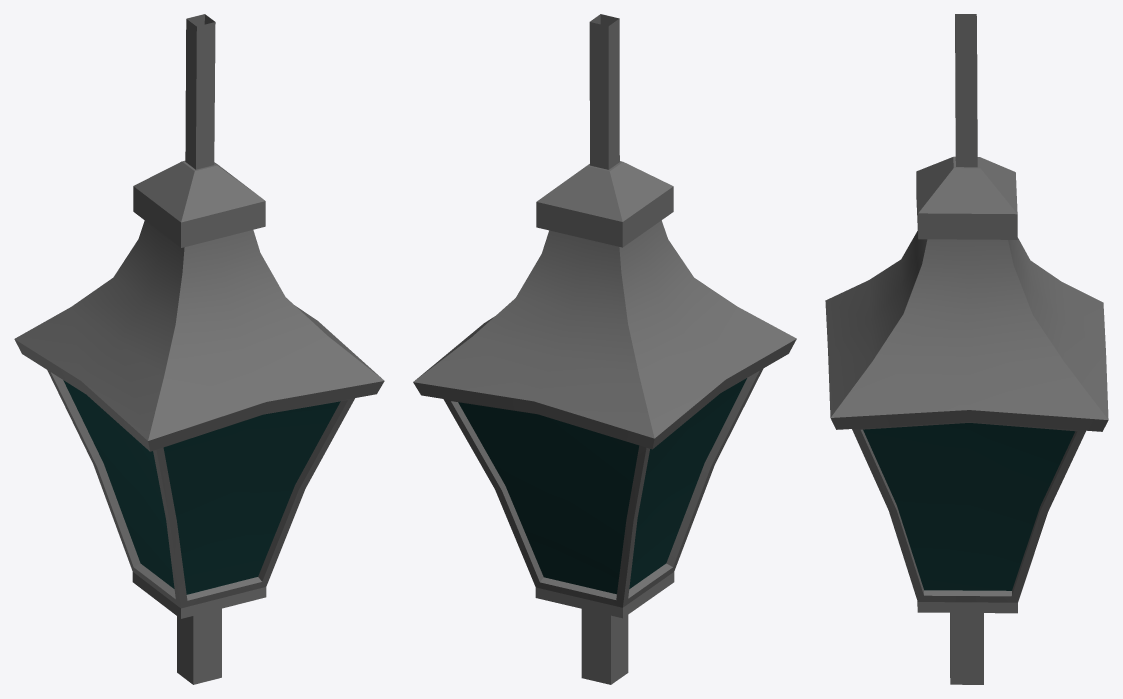
File: Wall_Lamp_2.fbx
The picture shows the model from 3 angles, left to right: view 1: azimuth 30°, elevation 25°; view 2: azimuth 150°, elevation 25°; view 3: azimuth 270°, elevation 25°; orthographic projection.
Parts seen in each view (by area): view 1: Wall_Lamp_2; view 2: Wall_Lamp_2; view 3: Wall_Lamp_2.
Part boxes in pixels (box(x1,y1,x2,y2)): Wall_Lamp_2: box(14, 14, 384, 684); Wall_Lamp_2: box(413, 14, 796, 684); Wall_Lamp_2: box(825, 14, 1108, 684).
Bounding box in the file's own units: 64.27 × 165 × 64.27.
